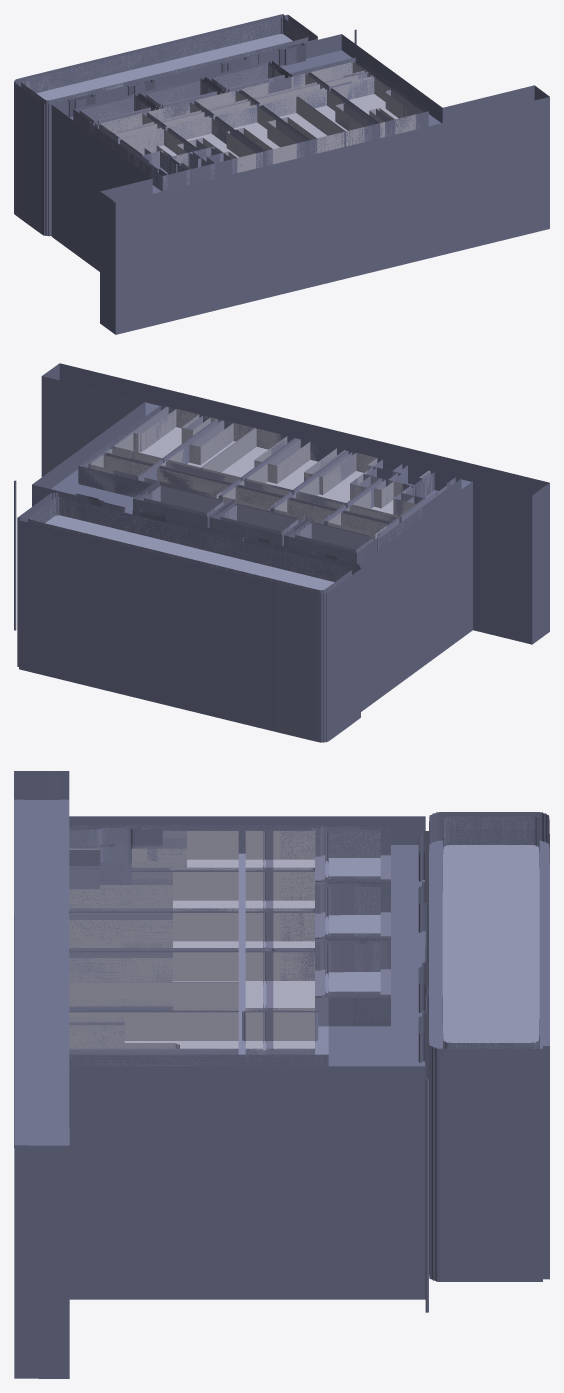
Rendered from indomart.fbx.
The picture shows the model from 3 angles, top to bottom: view 1: azimuth 30°, elevation 25°; view 2: azimuth 150°, elevation 25°; view 3: azimuth 270°, elevation 25°; orthographic projection. The views are drawn at different scales.
Parts seen in each view (by area): view 1: Curve.007, Curve, Curve.032, Curve.017, Curve.013, Curve.021, Curve.018, Curve.015, Curve.020, Curve.014; view 2: Curve.007, Curve, Curve.032, Curve.017, Curve.013, Curve.021, Curve.002, Curve.018, Curve.015, Curve.020, Curve.014; view 3: Curve.007, Curve, Curve.032, Curve.013, Curve.017, Curve.018, Curve.021, Curve.015, Curve.020, Curve.002, Curve.014.
Part boxes in pixels (x1,y1,x2,y2): Curve.007: (14, 14, 549, 334); Curve: (100, 62, 415, 172); Curve.032: (21, 18, 308, 122); Curve.017: (90, 58, 428, 191); Curve.013: (75, 61, 378, 155); Curve.021: (138, 90, 421, 168); Curve.018: (98, 61, 395, 167); Curve.015: (67, 43, 305, 117); Curve.020: (142, 148, 219, 189); Curve.014: (114, 62, 423, 133); Curve.007: (14, 363, 549, 742); Curve: (90, 409, 429, 540); Curve.032: (28, 486, 372, 593); Curve.017: (78, 406, 461, 549); Curve.013: (136, 419, 424, 563); Curve.021: (133, 407, 423, 507); Curve.002: (104, 453, 390, 533); Curve.018: (89, 414, 414, 536); Curve.015: (75, 481, 341, 560); Curve.020: (367, 466, 454, 503); Curve.014: (90, 406, 391, 522); Curve.007: (14, 771, 549, 1378); Curve: (69, 831, 314, 1050); Curve.032: (328, 816, 539, 1048); Curve.013: (69, 826, 390, 1014); Curve.017: (69, 825, 328, 1066); Curve.018: (69, 832, 328, 1050); Curve.021: (69, 831, 186, 1049); Curve.015: (315, 831, 428, 1078); Curve.020: (69, 828, 162, 884); Curve.002: (266, 831, 273, 1048); Curve.014: (69, 831, 311, 1054).
Bounding box in the file's own units: 28.93 × 8.4 × 17.49.
